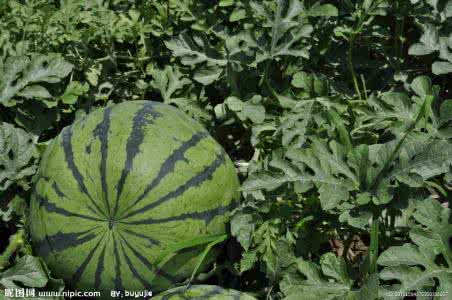watermelon: (26, 99, 249, 286)
